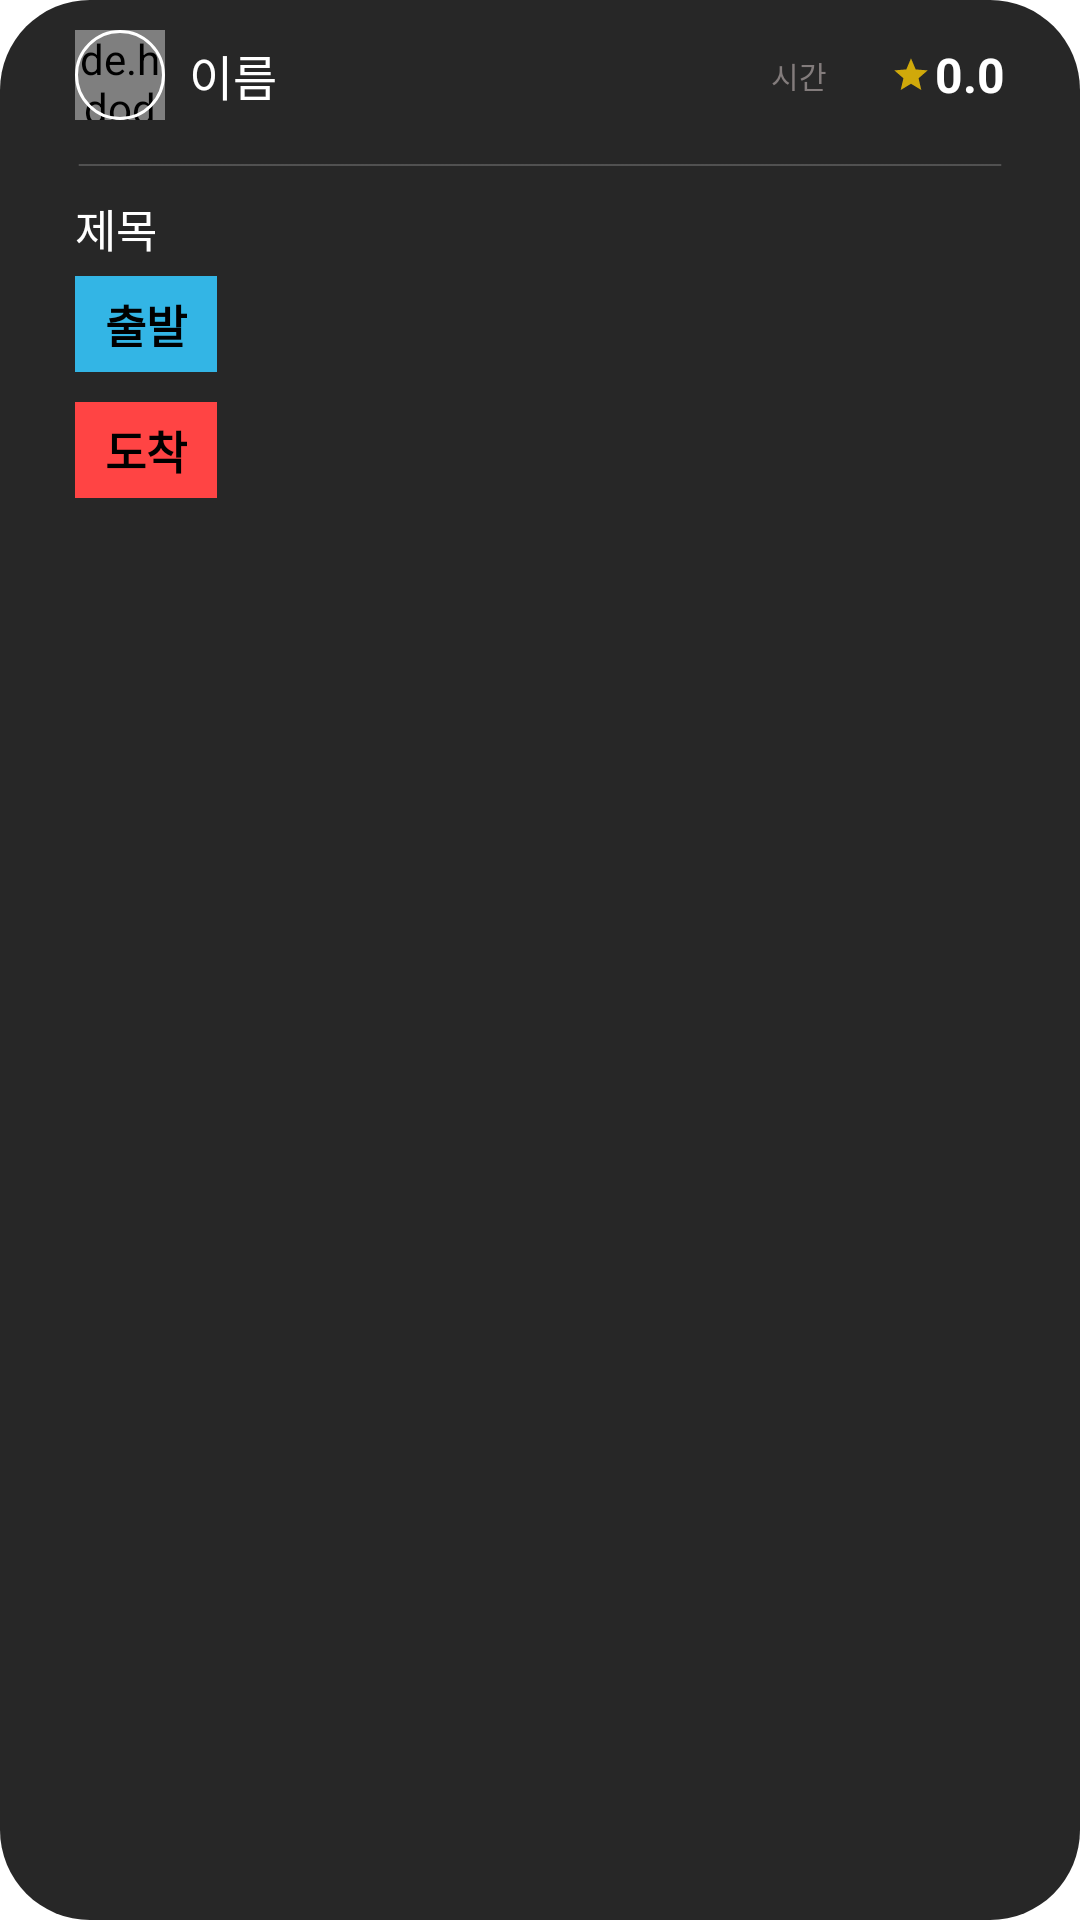

Icon click points for this 1080 × 1920 phone screenshot, format (x,y):
star: (911,74)
